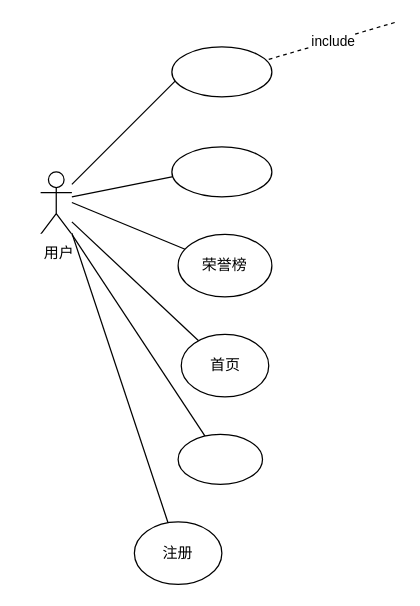
Some shapes in this 420 by 606 pixel diagram are drawn without their labels. Each missing label, with the centre of its shape:
"我的" goes at [219,458].
"登录" goes at [221,71].
"赛事" goes at [221,171].
